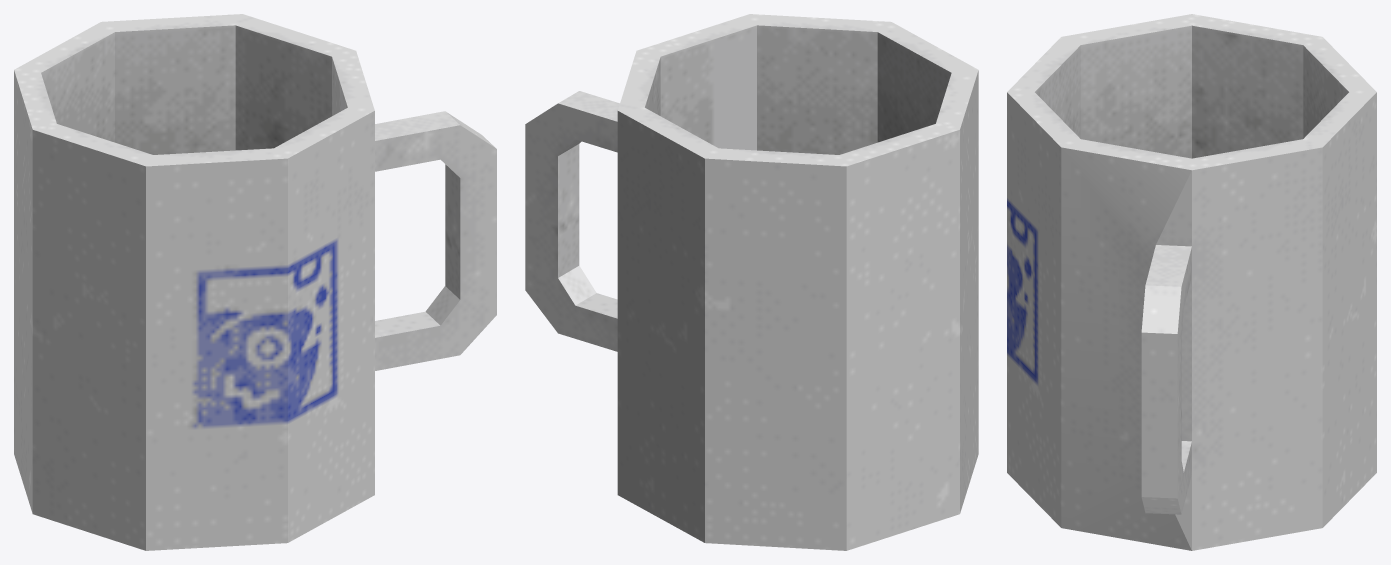
File: cup_lod2.fbx
3 renders of one model, left to right at view 1: azimuth 30°, elevation 25°; view 2: azimuth 150°, elevation 25°; view 3: azimuth 270°, elevation 25°, orthographic.
Parts seen in each view (by area): view 1: cup_lod2; view 2: cup_lod2; view 3: cup_lod2.
Boxes of the visible parts, x1,y1,x2,y2 form: cup_lod2: (14, 14, 496, 550); cup_lod2: (525, 14, 978, 550); cup_lod2: (1007, 14, 1376, 550).
Bounding box in the file's own units: 72.77 × 60.51 × 53.28.
